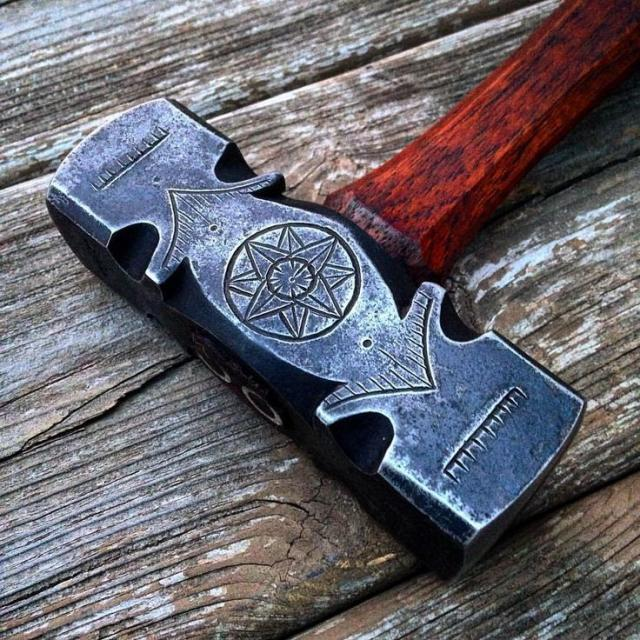hammer: (41, 0, 640, 593)
